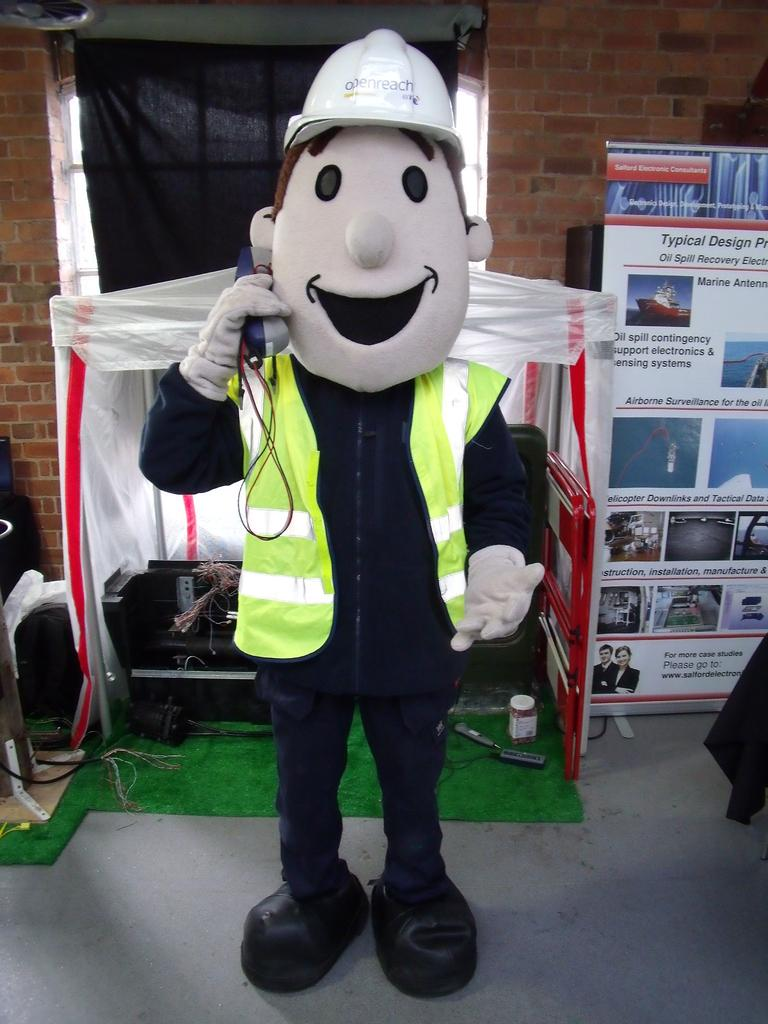Hat: (274, 32, 481, 191)
